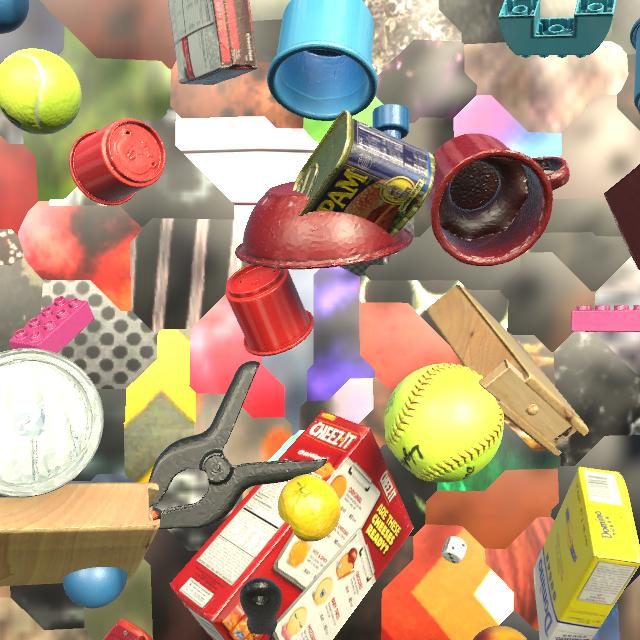ycb_002_master_chef_can: (0, 348, 104, 498)
ycb_003_cracker_box: (170, 410, 414, 640)
ycb_004_sugar_box: (533, 467, 640, 640)
ycb_008_pudding_box: (168, 0, 258, 85)
ycb_010_potted_meat_can: (293, 110, 436, 238)
ycb_014_lemon: (278, 474, 341, 542)
ycb_015_peach: (473, 626, 527, 640)
